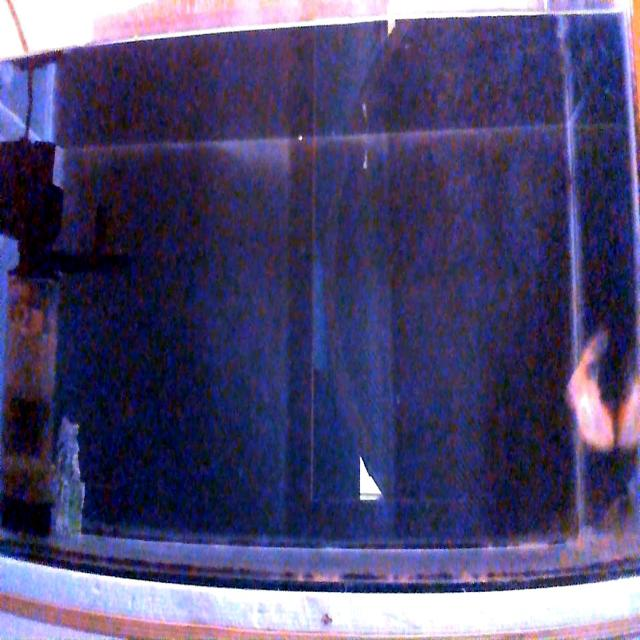fish: (568, 324, 614, 452), (615, 376, 640, 447)
